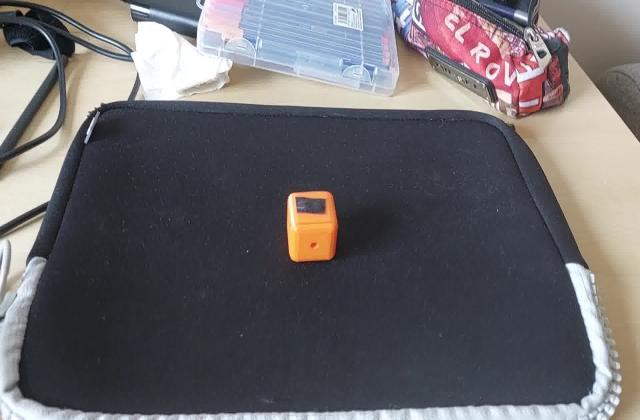black: (293, 196, 332, 218)
cube: (285, 189, 340, 265)
